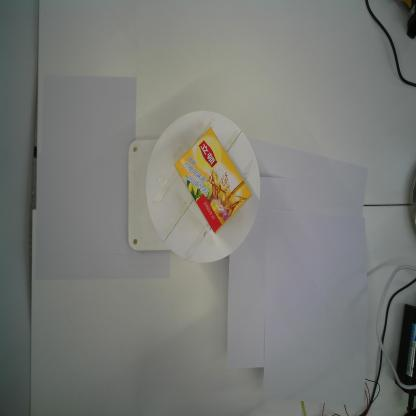Instant Drink: (174, 127, 253, 235)
